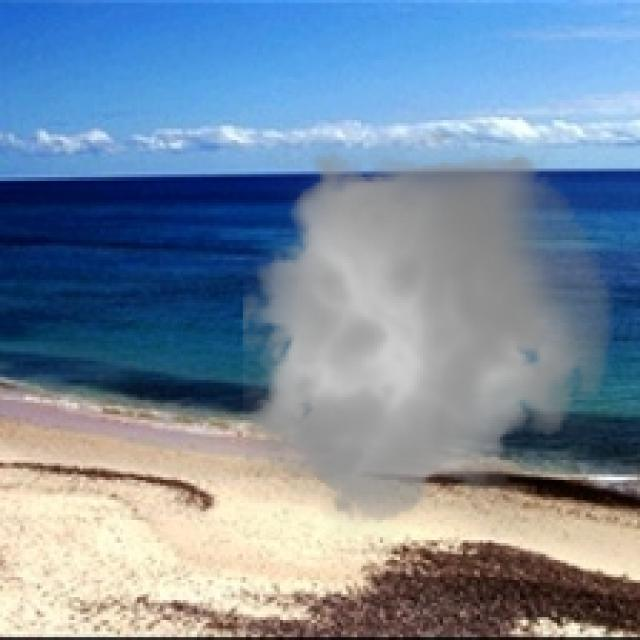smoke: (225, 134, 626, 537)
